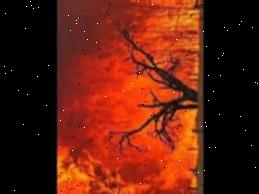fire: (58, 0, 200, 194)
